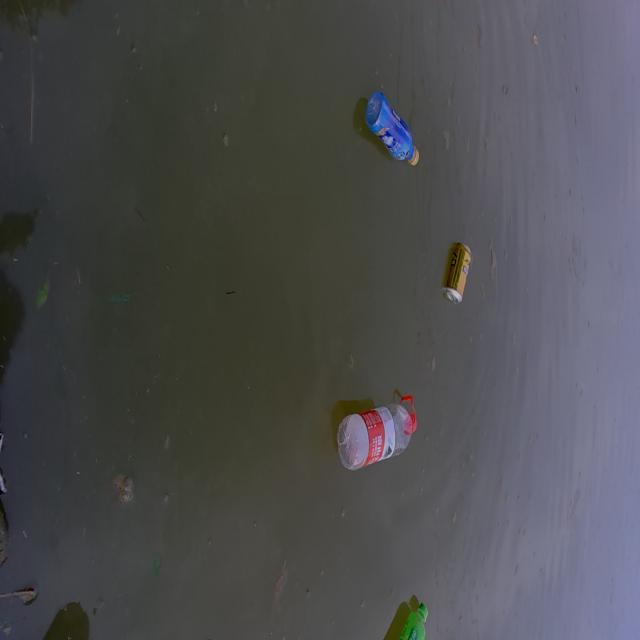bottle: (326, 370, 430, 492), (352, 74, 424, 172), (377, 595, 444, 640)
